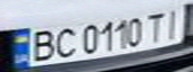0: (124, 14, 148, 47), (78, 20, 100, 54)
1: (112, 16, 133, 50), (96, 18, 115, 52)
B: (24, 27, 60, 63)
C: (48, 25, 81, 58)
I: (160, 2, 187, 39)
T: (142, 8, 169, 43)
